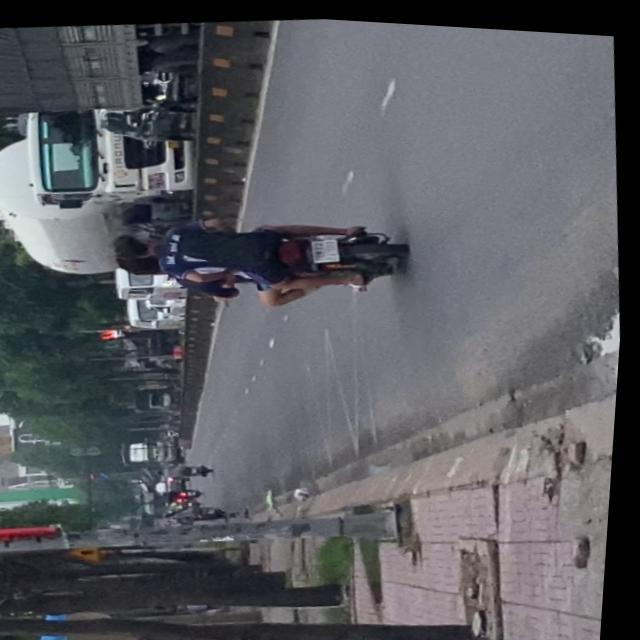licenseplate: (108, 193, 416, 318)
motorcyclist: (113, 227, 165, 259), (119, 248, 166, 274)
nohelmet: (310, 230, 342, 257)
